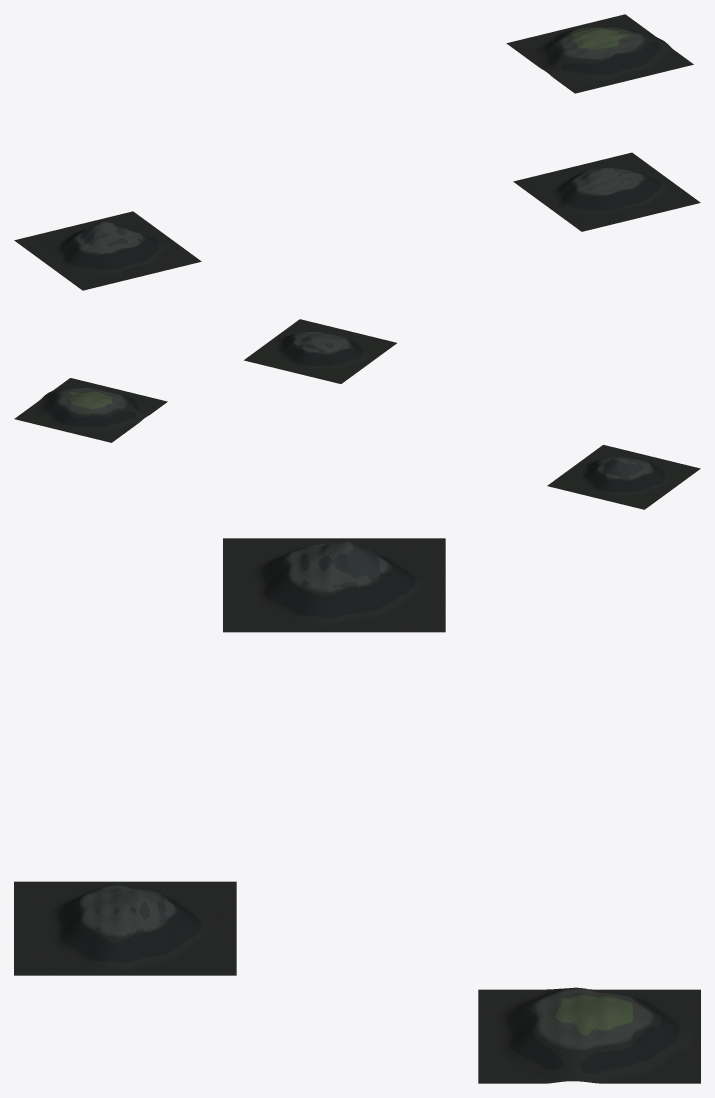
The model's file is offshore-islands.glb.
The picture shows the model from 3 angles, top to bottom: view 1: azimuth 30°, elevation 25°; view 2: azimuth 150°, elevation 25°; view 3: azimuth 270°, elevation 25°; orthographic projection. The views are drawn at different scales.
Bounding box in the file's own units: 556 × 19.34 × 296.
Materials: 1 (1 with a texture image).
